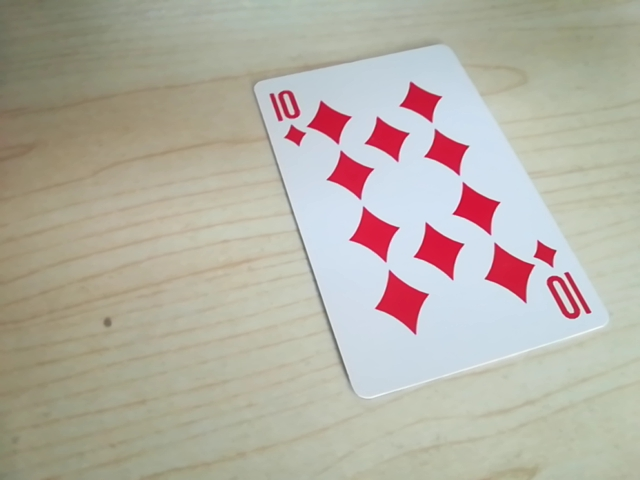fk 10: (541, 251, 588, 324), (261, 85, 310, 144)
